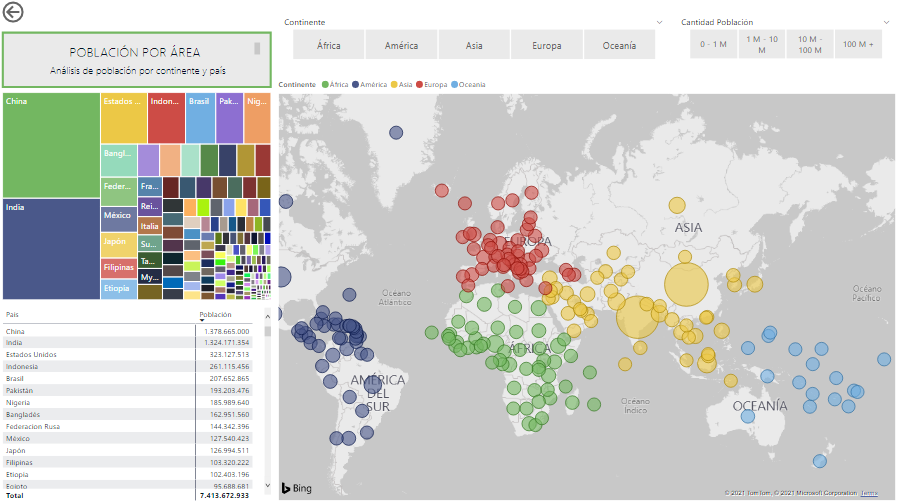

The page's visual inventory and layout, read from the dashboard file:
{"tool":"powerbi","page":{"name":"Población por área","canvas":[1280,720],"ordinal":0},"visuals":[{"type":"basicShape","box":[0,47.5,392.4,82.3],"z":0},{"type":"pivotTable","fields":{"Values":["Sum(Population.Población)"],"Rows":["Paises.Jerarquía.Continente","Paises.Jerarquía.Pais"]},"box":[0,435.2,392.4,284.8],"z":1000},{"type":"treemap","fields":{"Group":["Paises.Pais"],"Values":["Avg(Population.Población)"]},"box":[0,129.8,392.4,305.4],"z":2000},{"type":"map","fields":{"Category":["Paises.Pais"],"Size":["Avg(Population.Población)"],"Series":["Paises.Continente"]},"box":[392.4,104.4,887.7,615.6],"z":3000},{"type":"actionButton","box":[0,0,100,40],"z":4000},{"type":"slicer","fields":{"Values":["Population.Cantidad Población "]},"box":[957.4,20.6,322.8,72.8],"z":5000},{"type":"slicer","fields":{"Values":["Paises.Continente"]},"box":[392.4,20.6,564.9,74.4],"z":6000},{"type":"textbox","box":[19,58.5,357.6,30.1],"z":7000},{"type":"textbox","box":[19,88.6,357.6,30.1],"z":8000}]}

Visuals, with their boxes in screenshot pixels (x1, y1, x2, y2), scaled from the page's 1280x720 canvas onto the 898x502 screenshot:
basicShape: <region>0, 33, 275, 90</region>
pivotTable - Sum(Population.Población) x Paises.Jerarquía.Continente: <region>0, 303, 275, 501</region>
treemap - Paises.Pais x Avg(Population.Población): <region>0, 90, 275, 303</region>
map - Paises.Pais x Avg(Population.Población): <region>275, 73, 897, 501</region>
actionButton: <region>0, 0, 70, 28</region>
slicer - Population.Cantidad Población : <region>672, 14, 897, 65</region>
slicer - Paises.Continente: <region>275, 14, 672, 66</region>
textbox: <region>13, 41, 264, 62</region>
textbox: <region>13, 62, 264, 83</region>
